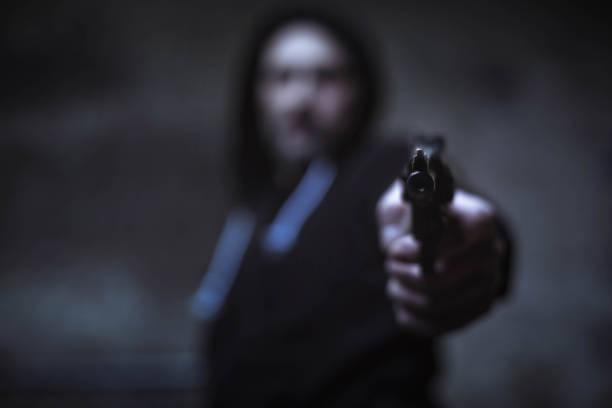weapon: (399, 131, 456, 241)
